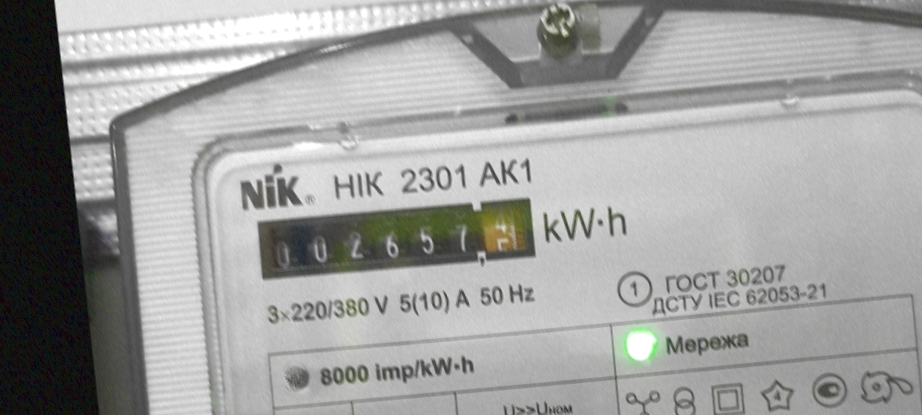0: (311, 232, 330, 264), (274, 238, 293, 268)
2: (347, 229, 366, 260)
4: (492, 207, 510, 234)
5: (418, 223, 437, 255), (496, 236, 512, 251)
6: (384, 228, 401, 259)
7: (454, 220, 472, 253)
screen: (247, 180, 549, 298)
